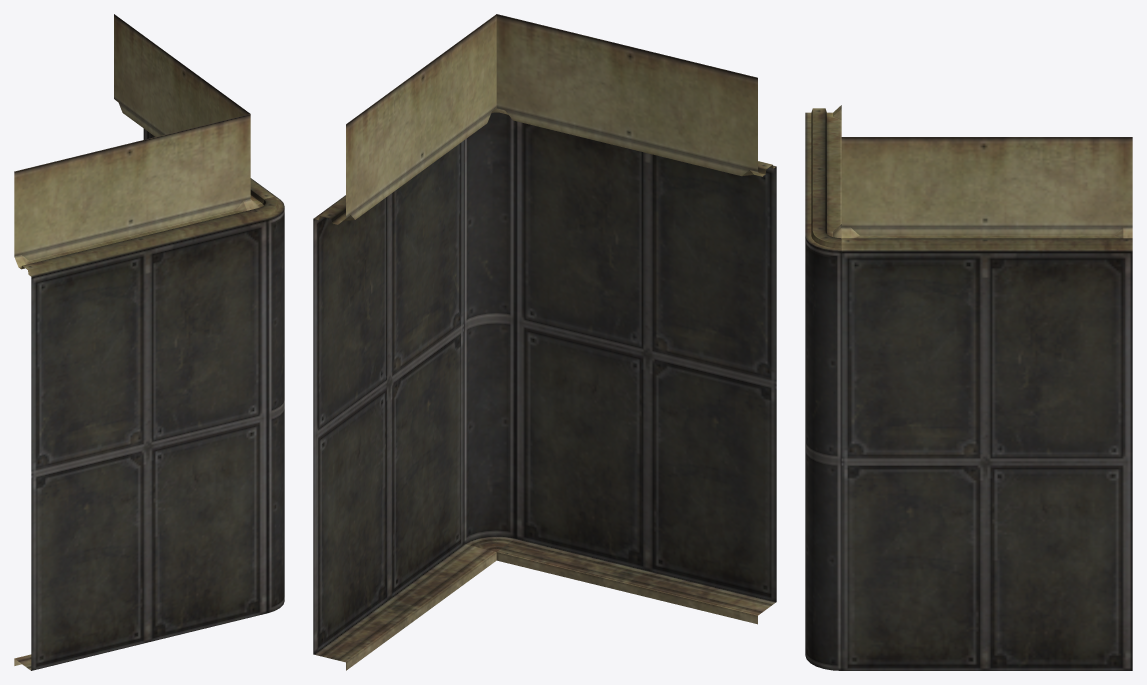
File: pplant_ground_concave_short.dae
The picture shows the model from 3 angles, left to right: view 1: azimuth 30°, elevation 25°; view 2: azimuth 150°, elevation 25°; view 3: azimuth 270°, elevation 25°; orthographic projection. The views are drawn at different scales.
Parts seen in each view (by area): view 1: ground_concave_short; view 2: ground_concave_short; view 3: ground_concave_short.
Part boxes in pixels (<box>): ground_concave_short: <box>14,14,284,670</box>; ground_concave_short: <box>313,14,776,670</box>; ground_concave_short: <box>805,105,1132,670</box>.
Size of the model in its own units: 2.25 by 4 by 2.25.
